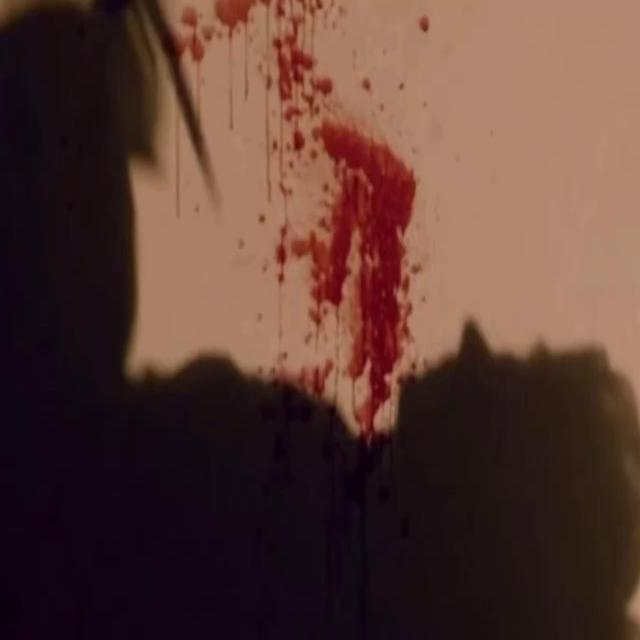flood: (184, 0, 418, 450)
